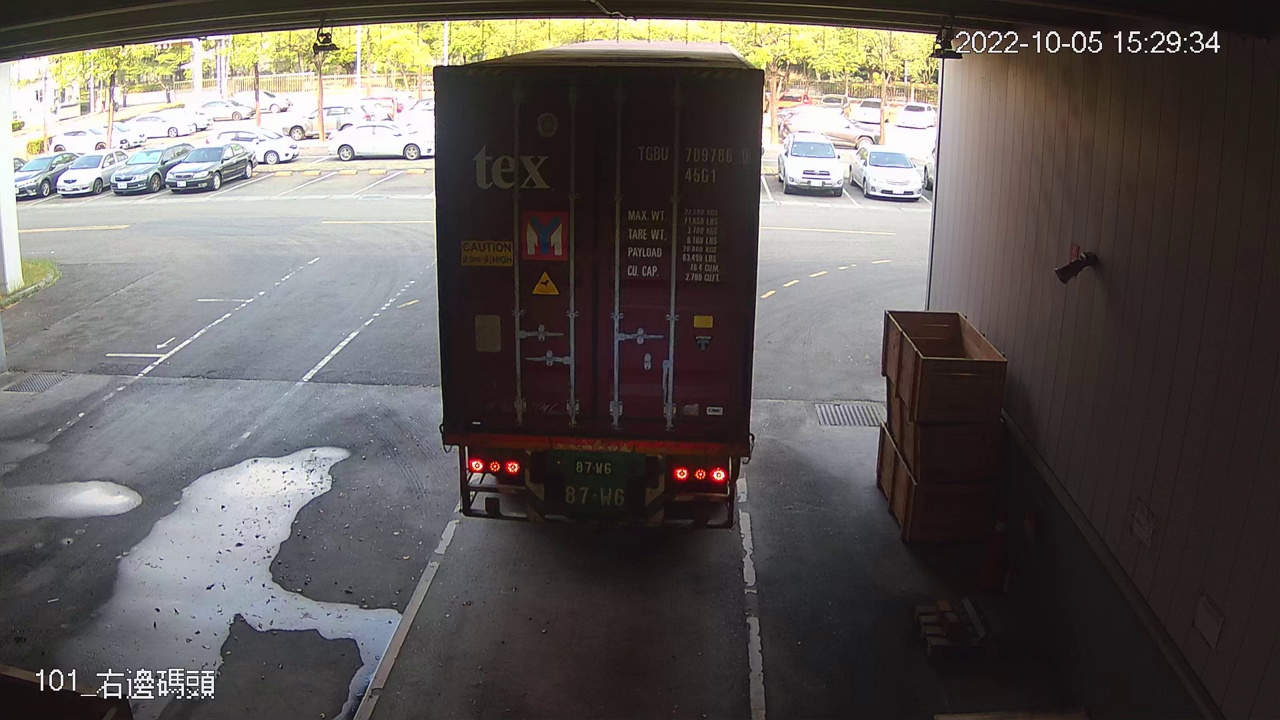container: (632, 140, 754, 188)
